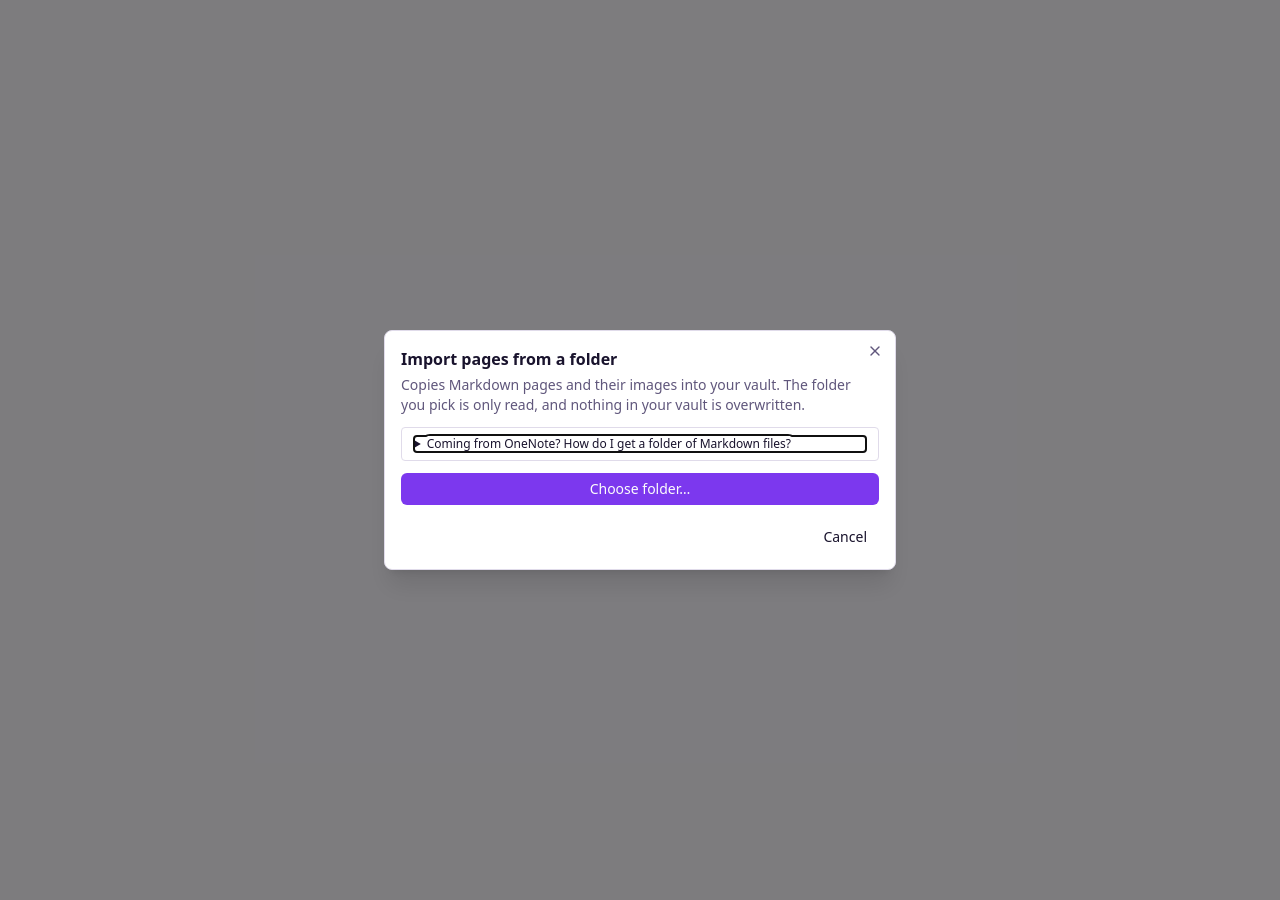
Test: ImportDialog › does not offer Import without a destination or when the folder has nothing to import
Click the button "Choose folder…": (640, 489) [401,473,879,505]
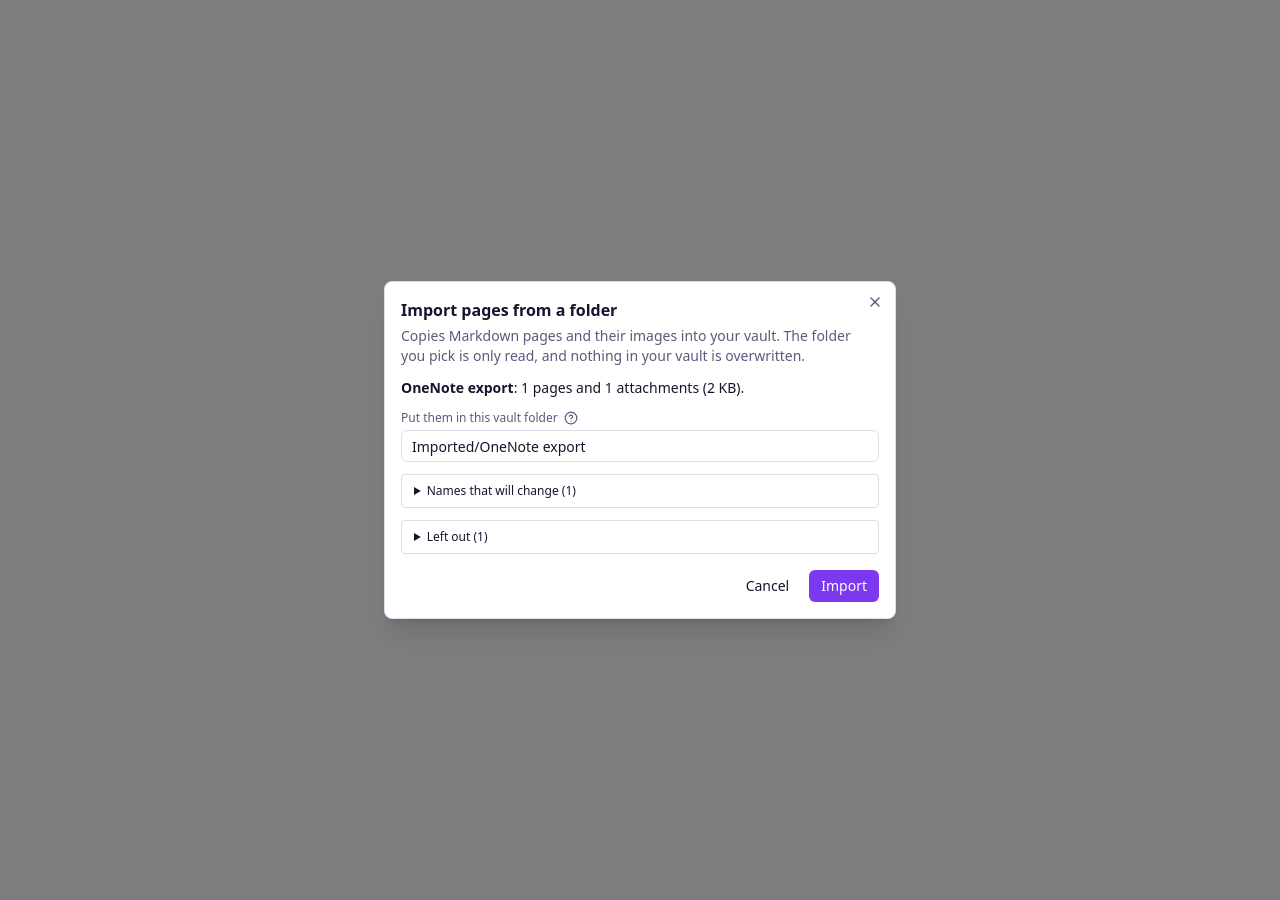
Expected: the text "OneNote export: 1 pages and 1 attachments (2 KB)." is shown, [401,378,744,397]
Clear the field labelled "Put them in this vault folder": (640, 446) [401,430,879,462]
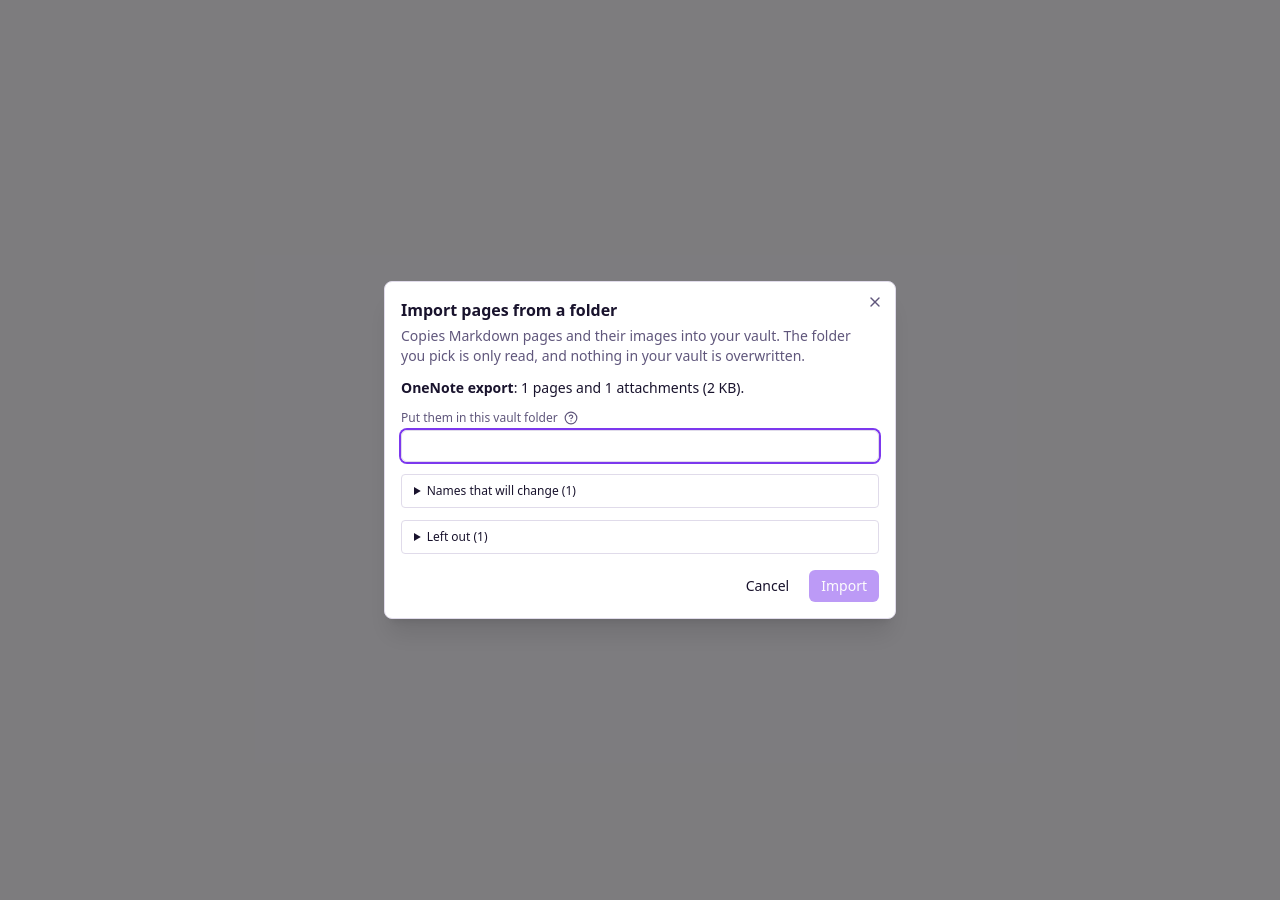
Expected: the button "Import" is disabled, [809,570,879,602]
